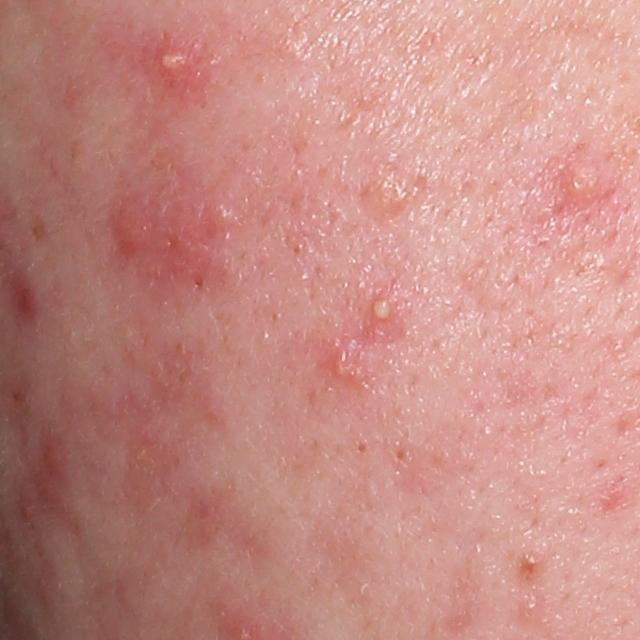comedo: (323, 336, 367, 384), (393, 445, 410, 467), (355, 441, 369, 457)
nodule: (110, 184, 233, 292)
papule: (360, 182, 413, 224), (45, 444, 65, 480), (19, 497, 36, 521)
pustule: (156, 49, 192, 76), (370, 299, 393, 322)
